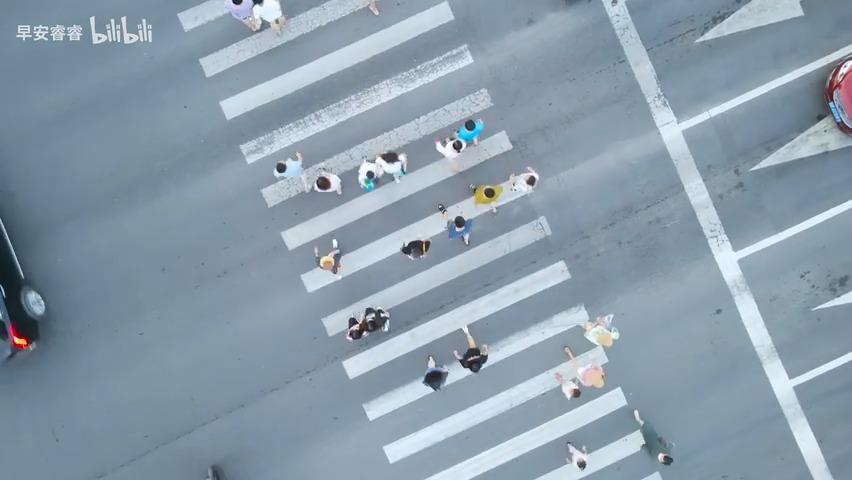Civilian: (633, 413, 675, 465), (563, 345, 605, 388), (452, 325, 488, 373), (249, 0, 287, 37), (582, 313, 619, 347), (222, 0, 261, 32), (434, 133, 466, 170), (374, 150, 408, 184), (468, 182, 503, 215), (313, 238, 341, 274), (422, 354, 449, 391), (452, 117, 484, 147), (357, 155, 383, 191), (273, 151, 303, 179), (553, 370, 581, 400), (509, 166, 539, 192), (447, 215, 472, 245), (312, 171, 342, 195), (363, 306, 390, 332), (565, 441, 588, 471), (400, 238, 430, 260), (345, 313, 369, 340)
